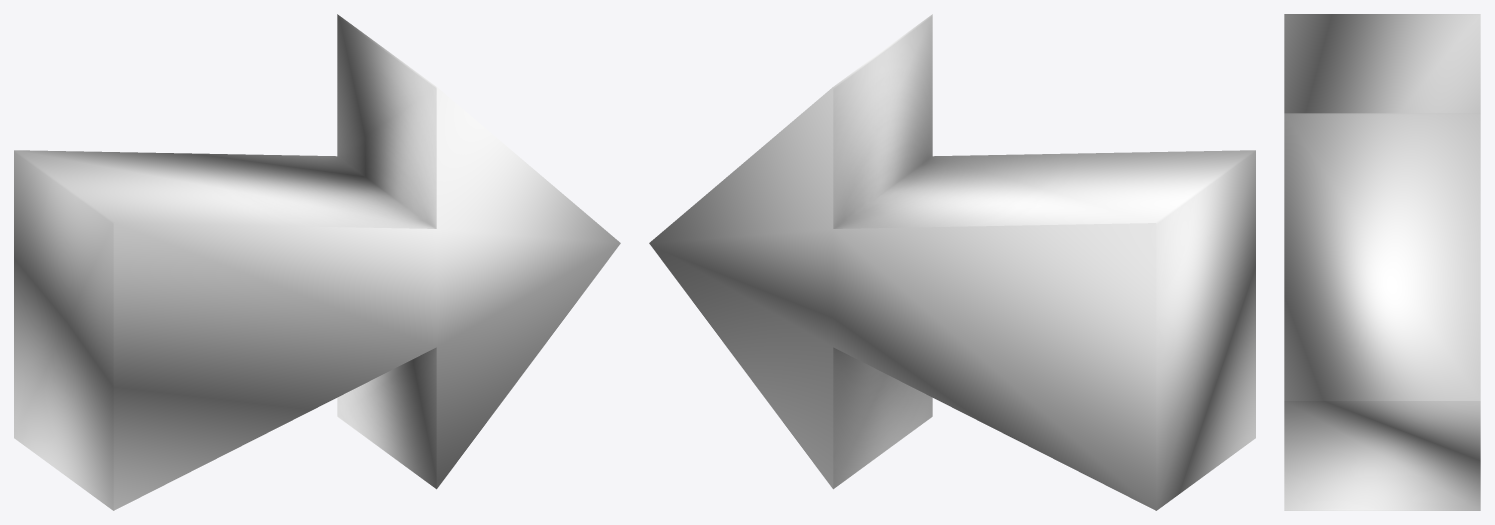
File: Arrow05.fbx
3 renders of one model, left to right at view 1: azimuth 30°, elevation 25°; view 2: azimuth 150°, elevation 25°; view 3: azimuth 270°, elevation 25°, orthographic.
Visible parts, largest first — view 1: Arrow05; view 2: Arrow05; view 3: Arrow05.
Part boxes in pixels (<box>): Arrow05: <box>14,14,620,510</box>; Arrow05: <box>649,14,1255,510</box>; Arrow05: <box>1284,14,1480,510</box>.
Size of the model in its own units: 6.6 by 5 by 2.24.
